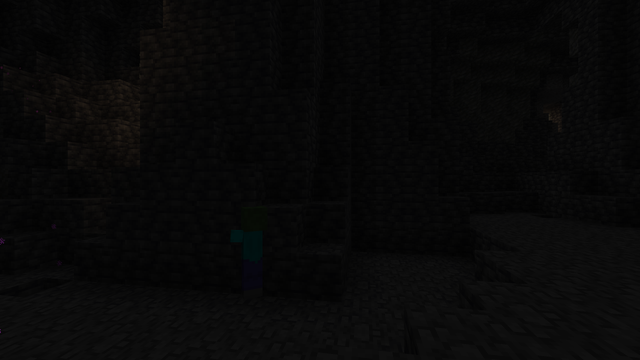zombies: (234, 207, 265, 301)
